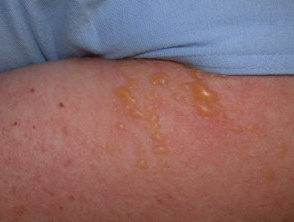SJS-TEN: (96, 48, 294, 209)
